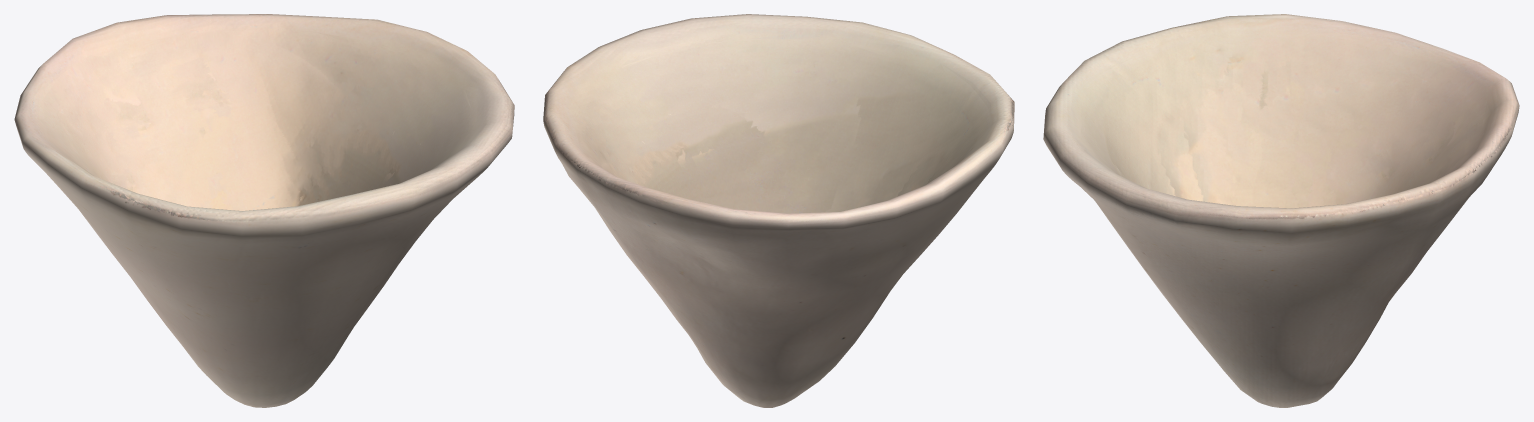
3 renders of one model, left to right at view 1: azimuth 30°, elevation 25°; view 2: azimuth 150°, elevation 25°; view 3: azimuth 270°, elevation 25°, orthographic. The views are drawn at different scales.
Visible parts, largest first — view 1: 102, Object102; view 2: 102, Object102; view 3: 102, Object102.
Boxes of the visible parts, x1,y1,x2,y2 form: 102: [14, 14, 514, 407]; Object102: [39, 28, 471, 187]; 102: [543, 14, 1014, 407]; Object102: [574, 28, 992, 172]; 102: [1043, 14, 1519, 407]; Object102: [1071, 38, 1490, 173].
Size of the model in its own units: 98.37 by 98.14 by 65.9.
1 material, 1 textured.
